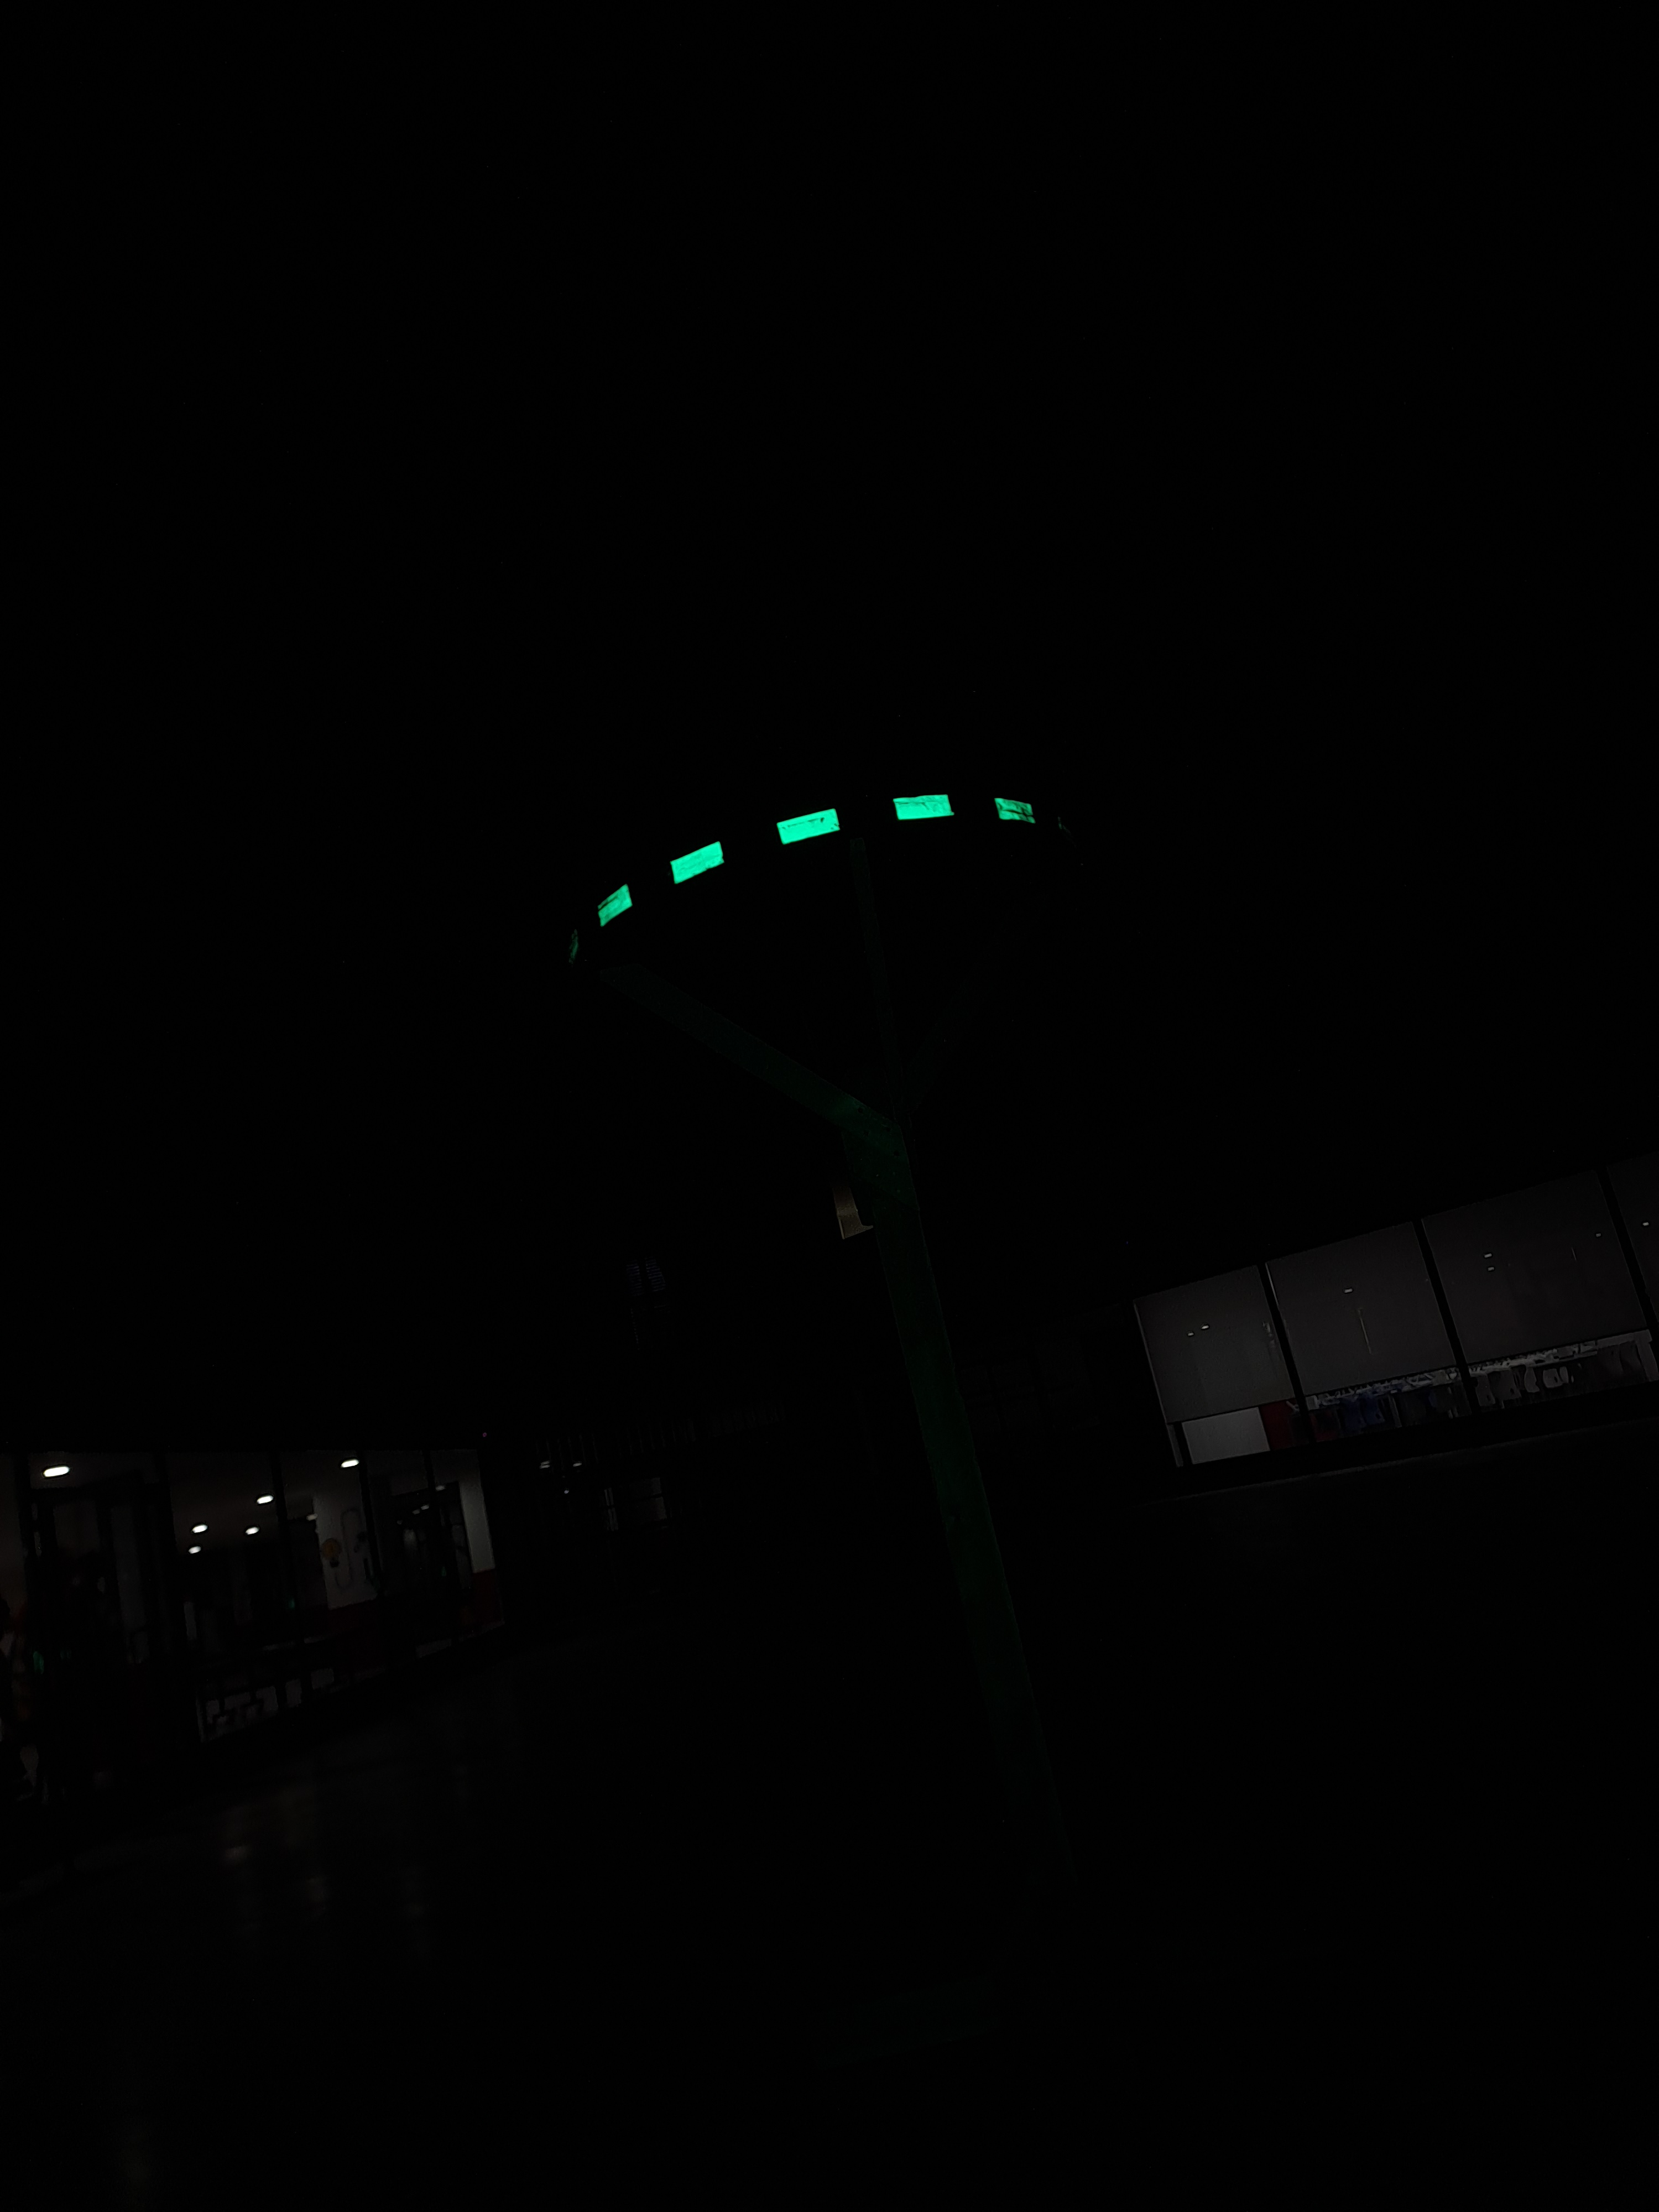hoop: (589, 772, 1049, 953)
